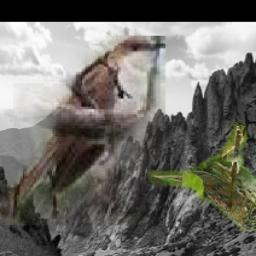Cuckoo: (0, 37, 167, 226)
Sparrow: (147, 122, 256, 232)
